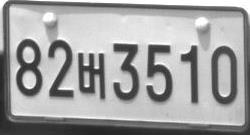0: (211, 44, 238, 105)
1: (178, 44, 207, 104)
2: (47, 39, 75, 98)
3: (112, 43, 140, 101)
5: (145, 43, 173, 103)
8: (15, 38, 43, 97)
버: (77, 52, 106, 99)
